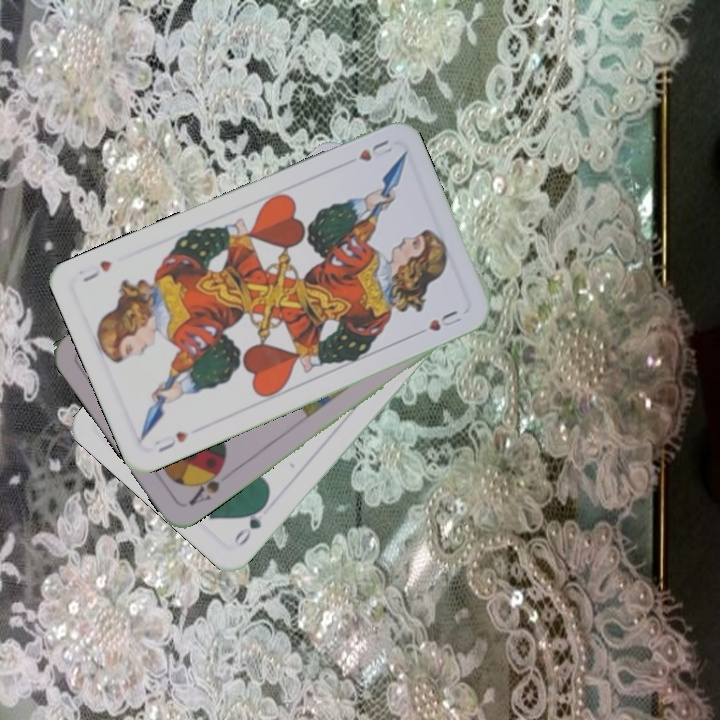GO: (230, 498, 270, 549)
HU: (354, 135, 396, 164), (150, 427, 191, 455)
SA: (184, 460, 227, 509)
